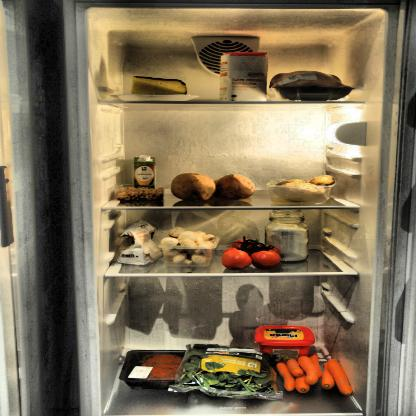beef: (121, 348, 188, 389)
butter: (252, 324, 318, 362)
carrot: (273, 353, 357, 399)
cheese: (129, 74, 189, 97)
chicken: (270, 70, 358, 101)
heavy_cream: (132, 154, 156, 196)
mushrooms: (160, 226, 220, 265)
potato: (266, 174, 340, 204)
shrimp: (114, 186, 166, 202)
spinach: (174, 342, 272, 400)
sweet_potato: (169, 172, 256, 202)
tomato: (219, 237, 282, 270)
